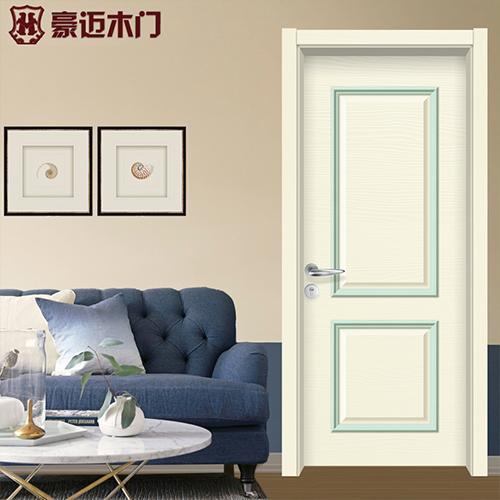door: (301, 55, 469, 464)
